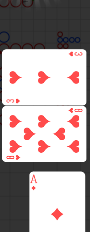10H: (67, 108, 83, 115)
3H: (67, 51, 83, 58)
AD: (29, 174, 38, 192)
